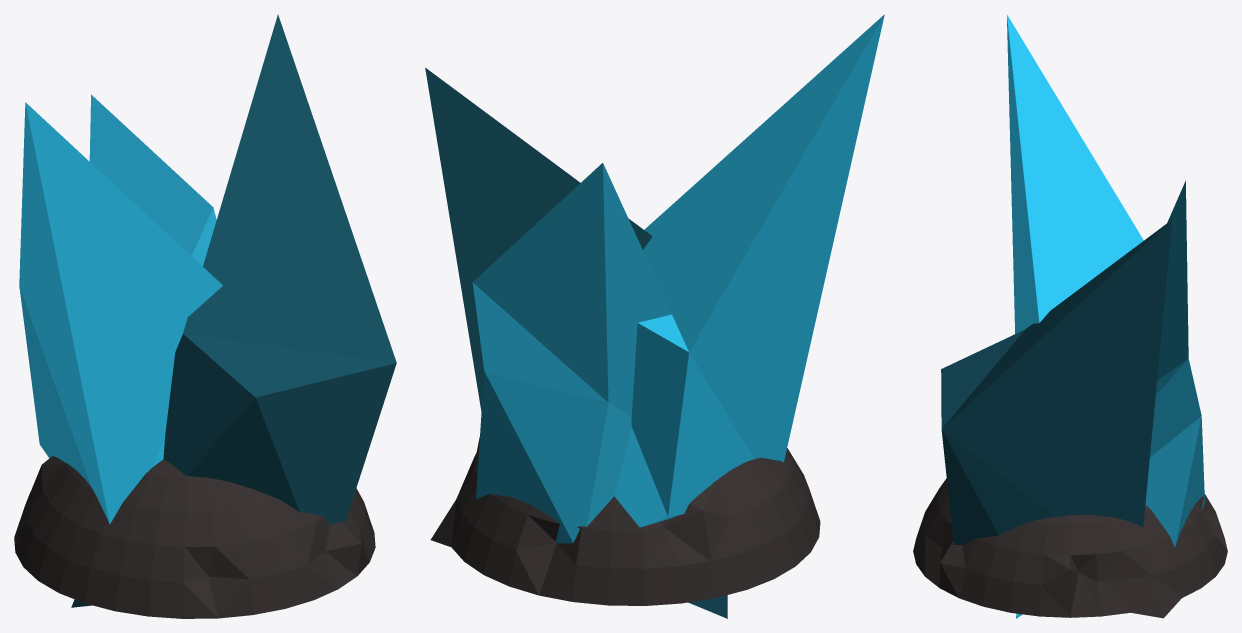
File: blue_crystal.obj
The picture shows the model from 3 angles, left to right: view 1: azimuth 30°, elevation 25°; view 2: azimuth 150°, elevation 25°; view 3: azimuth 270°, elevation 25°; orthographic projection. The views are drawn at different scales.
Visible parts, largest first — view 1: Cube.001; view 2: Cube.001; view 3: Cube.001.
Boxes of the visible parts, x1,y1,x2,y2 form: Cube.001: (14,14,396,618); Cube.001: (425,14,884,618); Cube.001: (913,15,1227,618).
Bounding box in the file's own units: 2.52 × 3.77 × 2.18.
